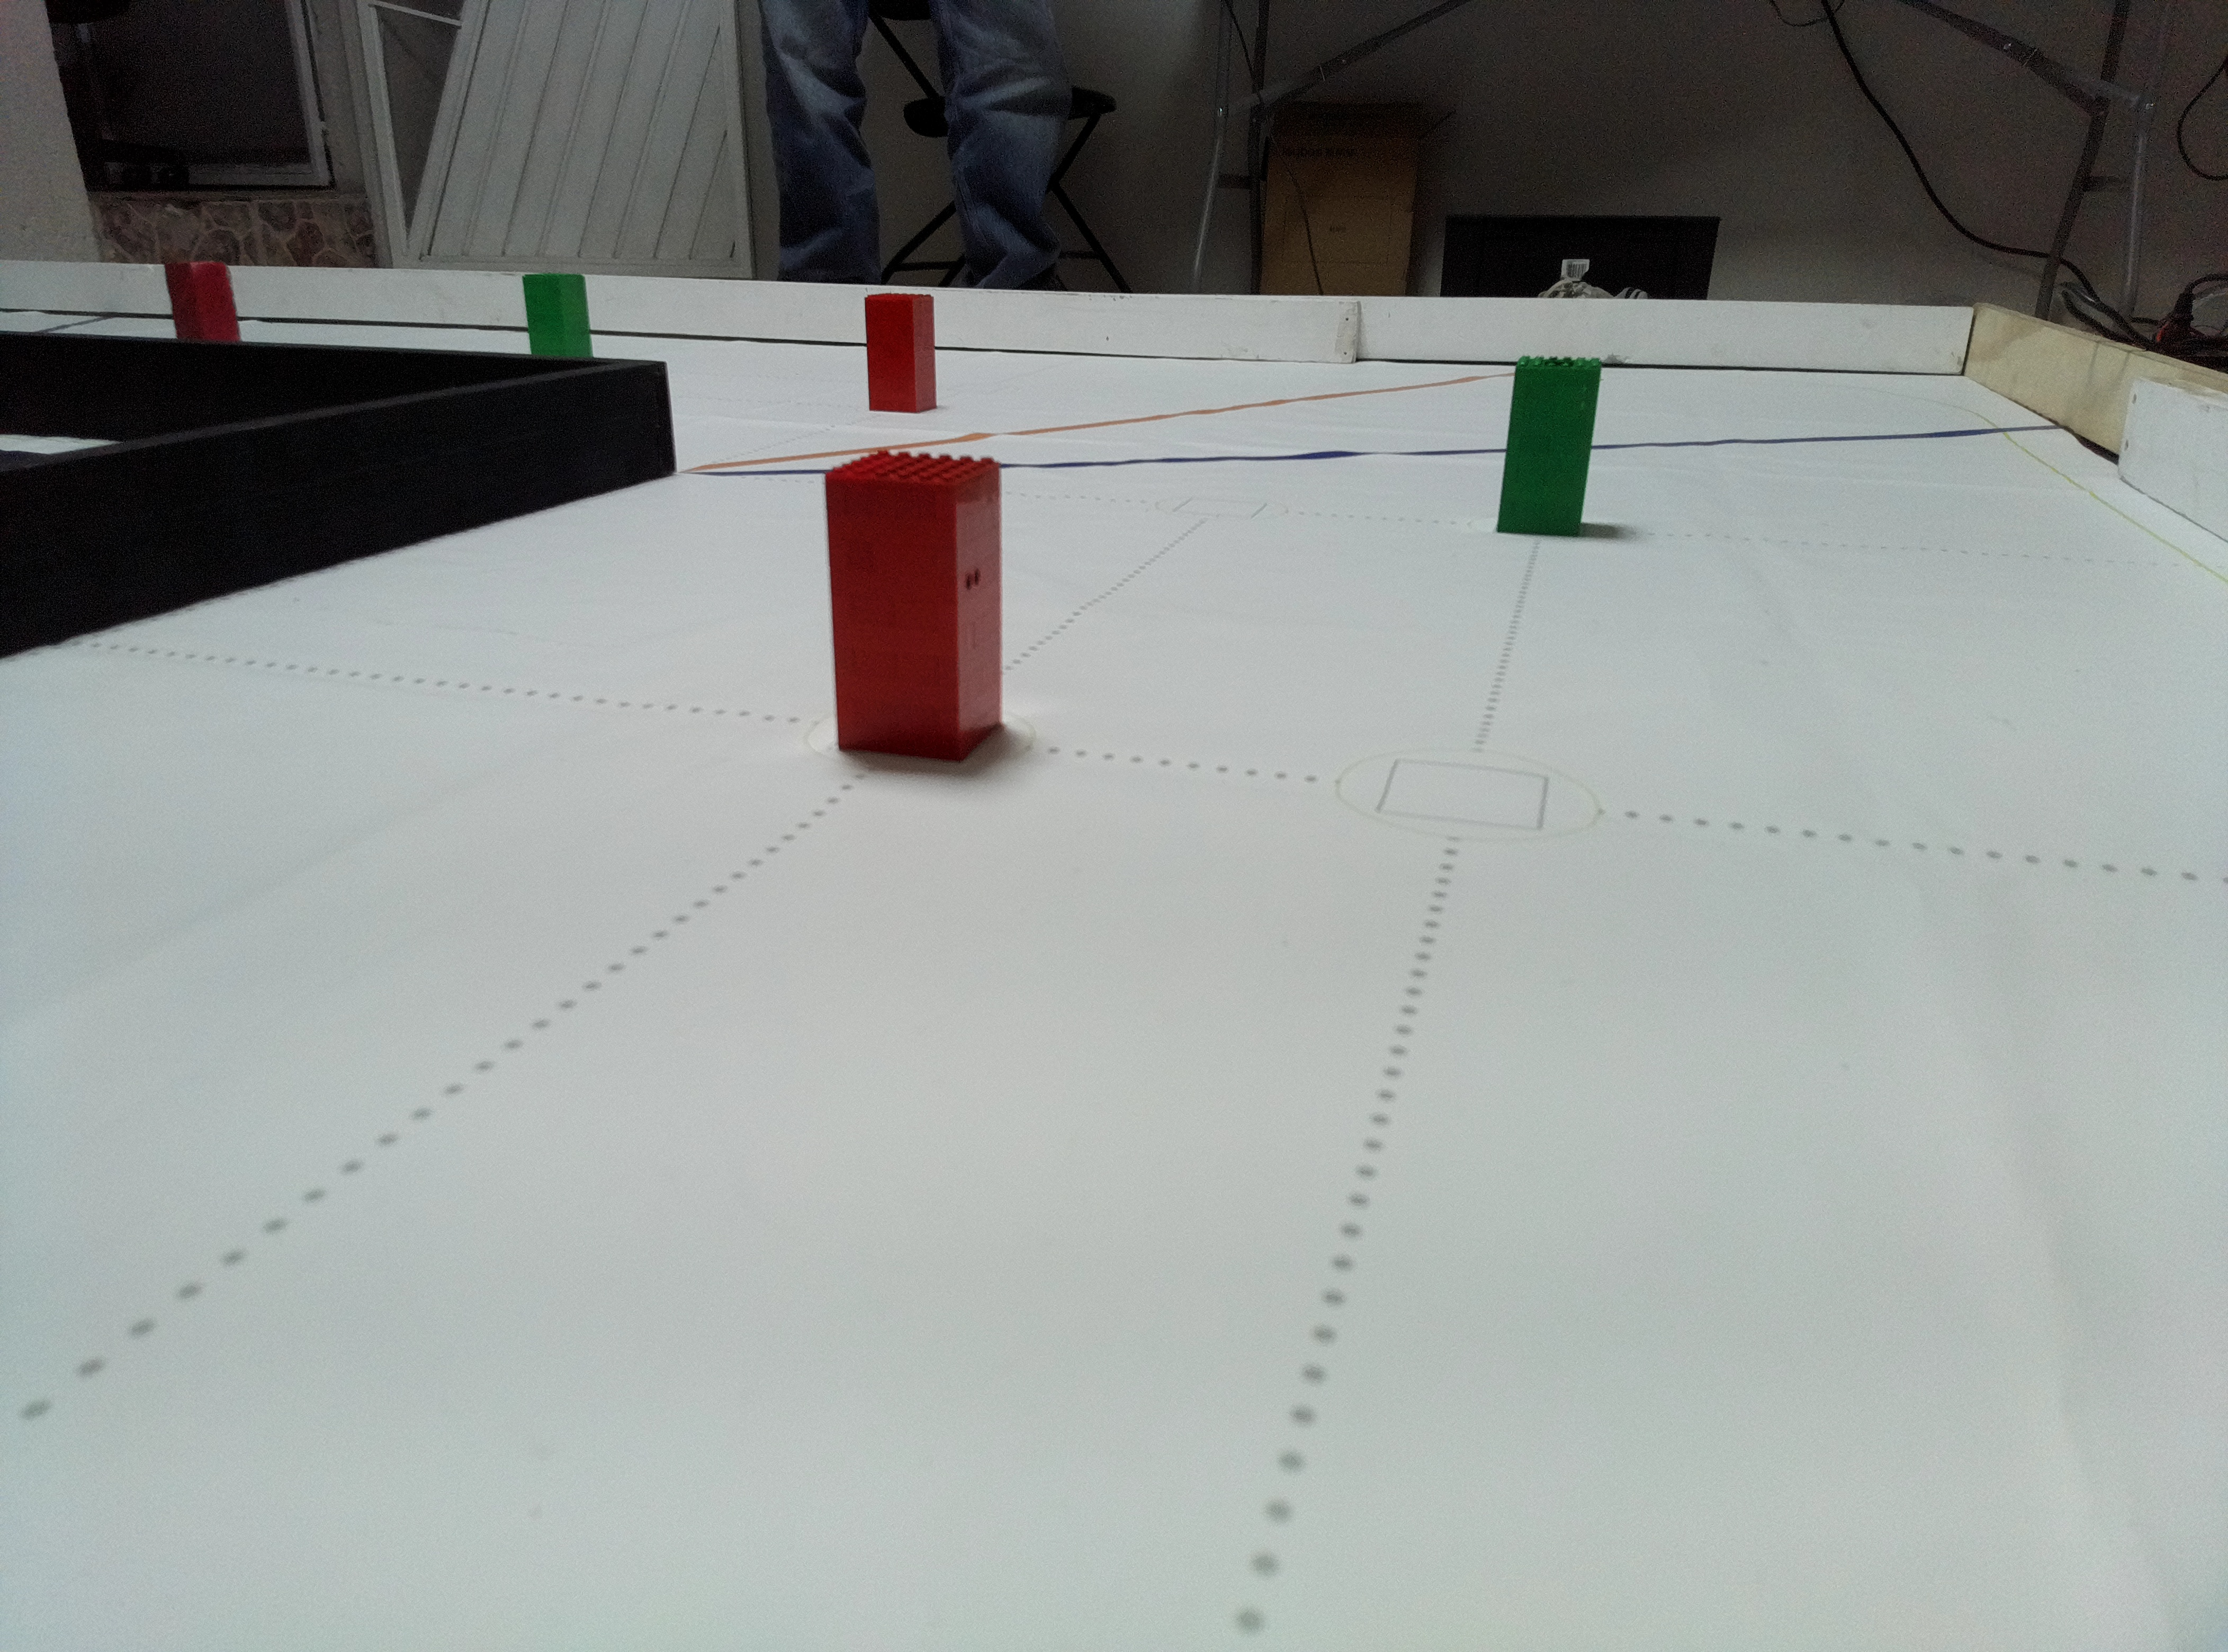greenbox: (1497, 354, 1603, 529), (517, 269, 595, 361)
redbox: (819, 448, 1008, 758), (861, 290, 940, 413), (163, 255, 243, 340)
